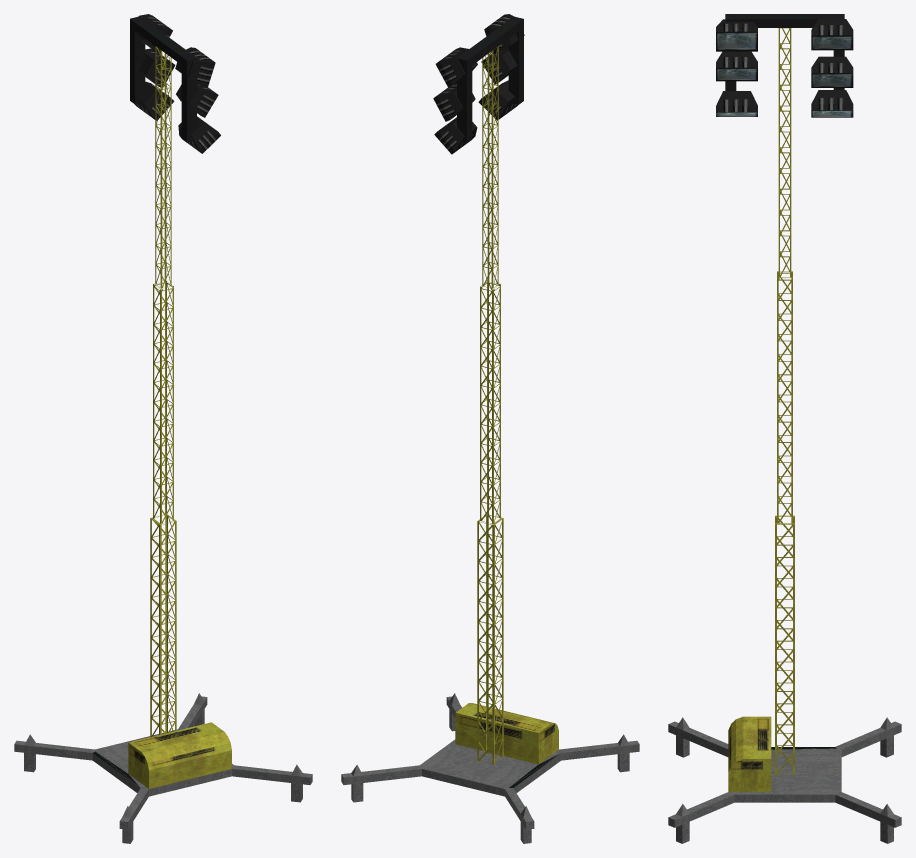
The model's file is vgsecnstrct14.obj.
3 renders of one model, left to right at view 1: azimuth 30°, elevation 25°; view 2: azimuth 150°, elevation 25°; view 3: azimuth 270°, elevation 25°, orthographic. The views are drawn at different scales.
Visible parts, largest first — view 1: vgsEcnstrct14; view 2: vgsEcnstrct14; view 3: vgsEcnstrct14.
Part boxes in pixels (box(x1,y1,x2,y2)): vgsEcnstrct14: box(14, 14, 312, 843); vgsEcnstrct14: box(341, 14, 639, 843); vgsEcnstrct14: box(668, 14, 901, 843).
Bounding box in the file's own units: 3.3 × 12.2 × 3.3.
Materials: 5 (5 with a texture image).
